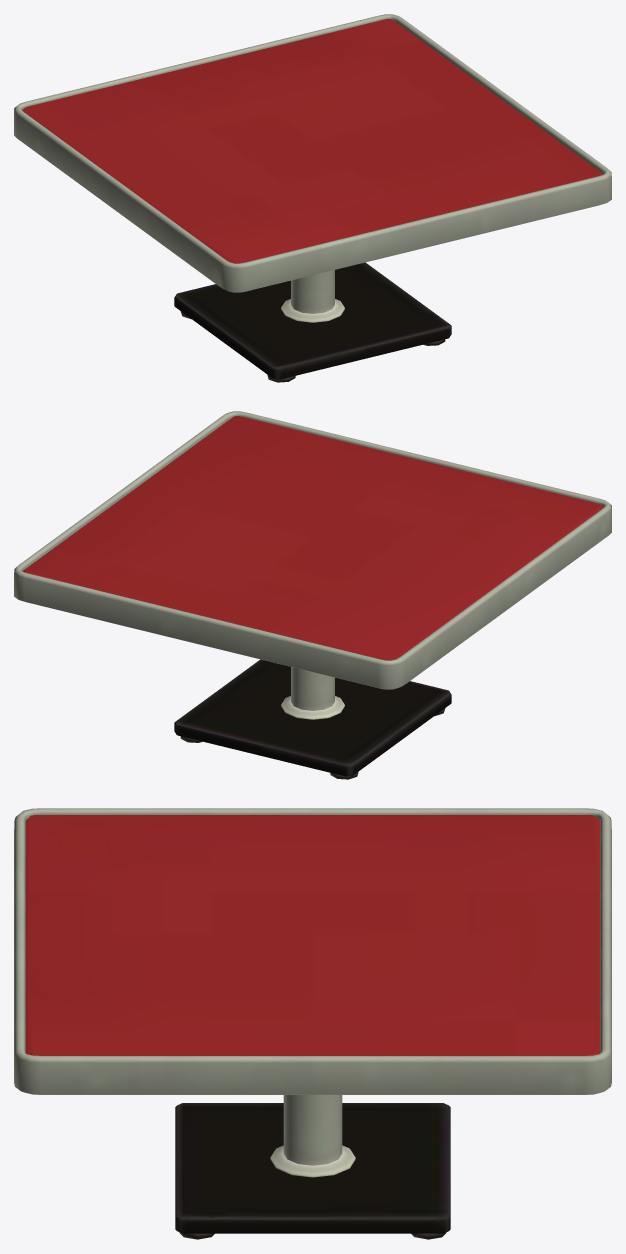
The picture shows the model from 3 angles, top to bottom: view 1: azimuth 30°, elevation 25°; view 2: azimuth 150°, elevation 25°; view 3: azimuth 270°, elevation 25°; orthographic projection. The views are drawn at different scales.
Bounding box in the file's own units: 17.37 × 8 × 17.37.
Materials: 2 (2 with a texture image).
